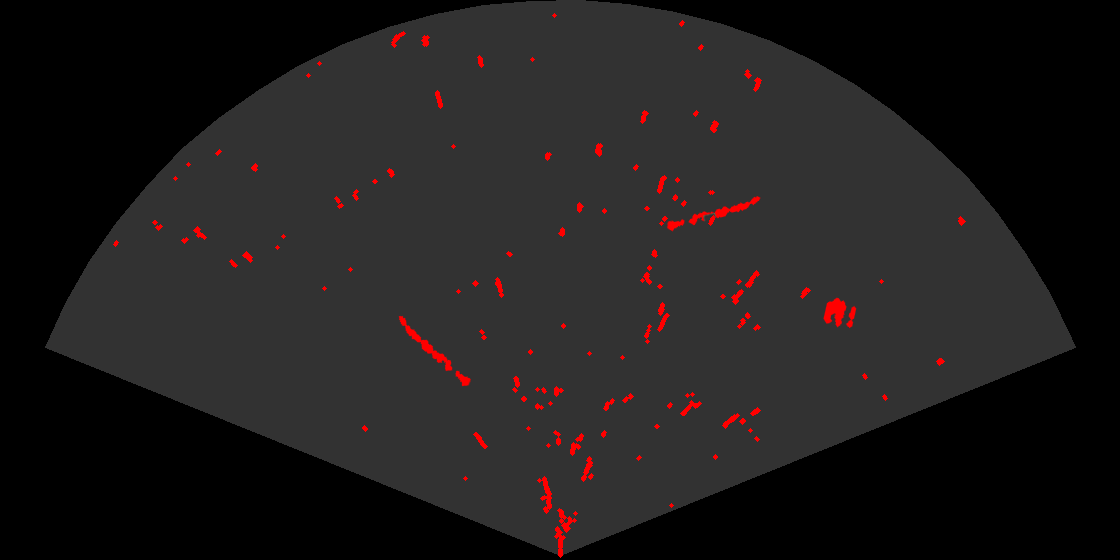ball: (822, 296, 858, 330)
chain: (397, 314, 472, 388), (665, 195, 762, 233)
